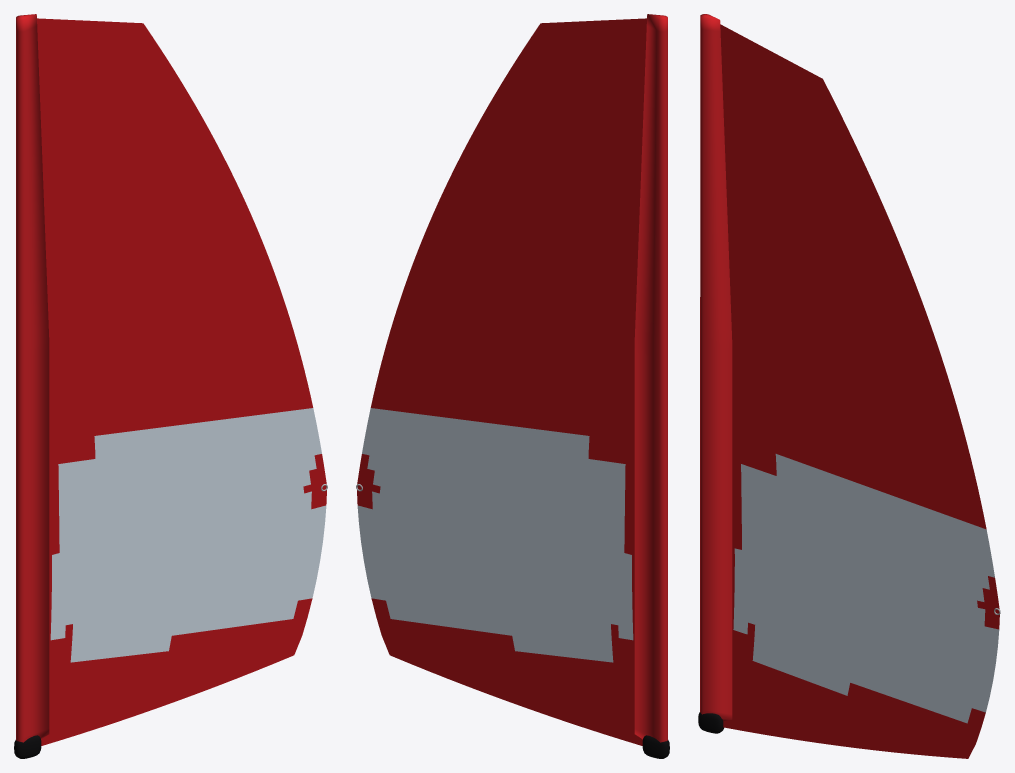
Rendered from sail.glb.
3 renders of one model, left to right at view 1: azimuth 30°, elevation 25°; view 2: azimuth 150°, elevation 25°; view 3: azimuth 330°, elevation 25°, orthographic. The views are drawn at different scales.
Parts seen in each view (by area): view 1: SailCloth; view 2: SailCloth; view 3: SailCloth.
Boxes of the visible parts, x1,y1,x2,y2 form: SailCloth: [16, 14, 326, 745]; SailCloth: [357, 14, 667, 745]; SailCloth: [700, 14, 999, 758].
Size of the model in its own units: 2.25 by 5.11 by 0.08.
